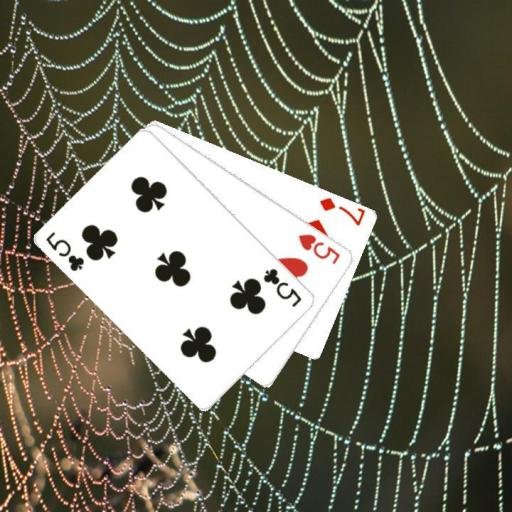5C: (43, 228, 87, 273), (261, 265, 305, 309)
5H: (295, 230, 342, 266)
7D: (317, 194, 367, 228)
